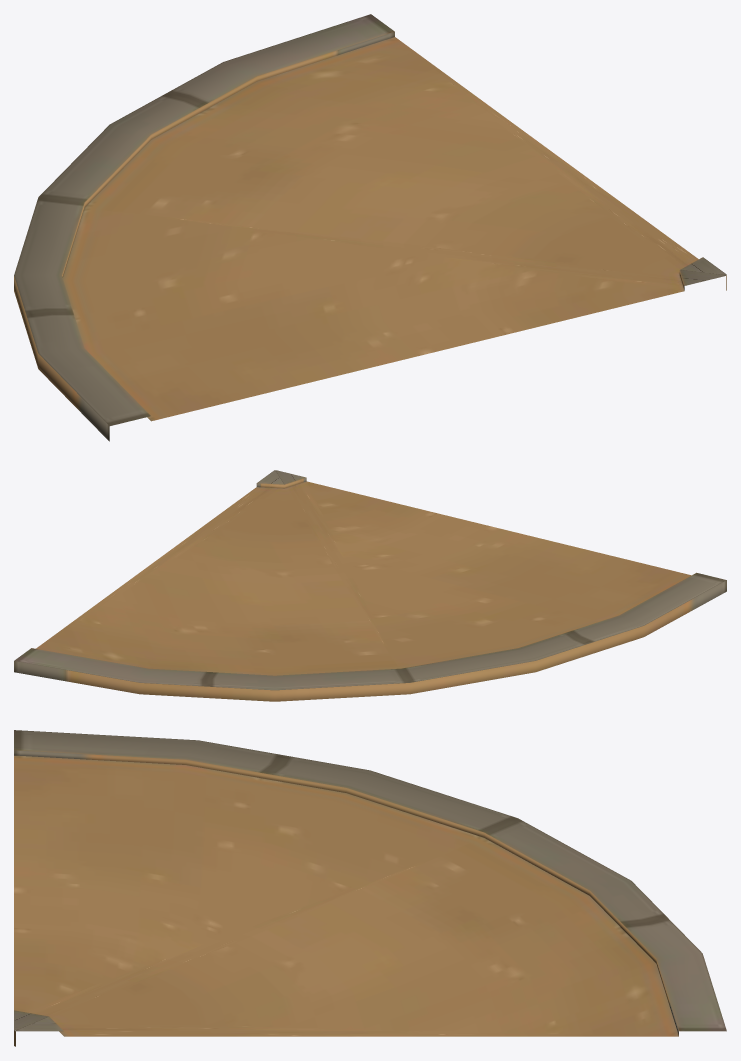
Rendered from tile.bend.glb.
The picture shows the model from 3 angles, top to bottom: view 1: azimuth 30°, elevation 25°; view 2: azimuth 150°, elevation 25°; view 3: azimuth 270°, elevation 25°; orthographic projection. The views are drawn at different scales.
Parts seen in each view (by area): view 1: path.tile.bend; view 2: path.tile.bend; view 3: path.tile.bend.
Part boxes in pixels (left/top/right/bottom): path.tile.bend: left=14, top=14, right=726, bottom=441; path.tile.bend: left=14, top=470, right=726, bottom=701; path.tile.bend: left=14, top=730, right=726, bottom=1046.
Size of the model in its own units: 0.997 by 0.024 by 0.997.
Materials: 1 (1 with a texture image).
